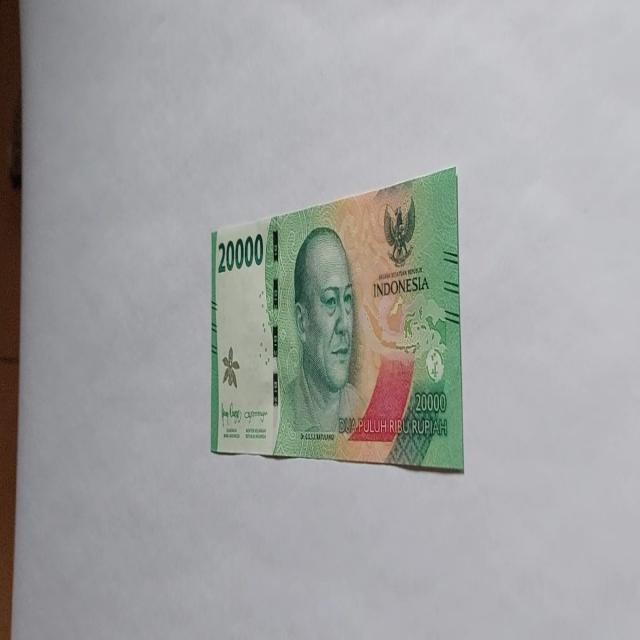dua puluh ribu rupiah: (210, 164, 463, 472), (272, 224, 368, 459)
